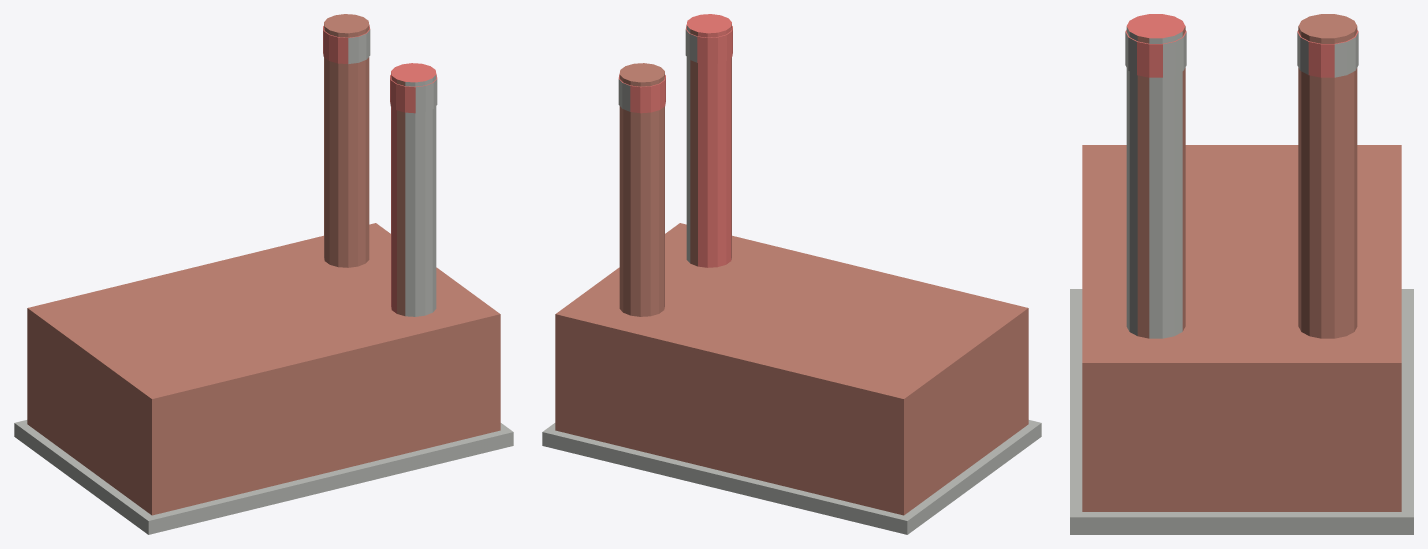
Rendered from factory_brick_smokestacks.glb.
3 views of the same model, side by side, from view 1: azimuth 30°, elevation 25°; view 2: azimuth 150°, elevation 25°; view 3: azimuth 270°, elevation 25° (orthographic). The views are drawn at different scales.
Parts seen in each view (by area): view 1: factory_brick_smokestacks; view 2: factory_brick_smokestacks; view 3: factory_brick_smokestacks.
Part boxes in pixels (left/top/right/bottom): factory_brick_smokestacks: left=14, top=14, right=513, bottom=534; factory_brick_smokestacks: left=542, top=14, right=1041, bottom=534; factory_brick_smokestacks: left=1070, top=14, right=1413, bottom=534.
Size of the model in its own units: 22 by 21 by 14.
